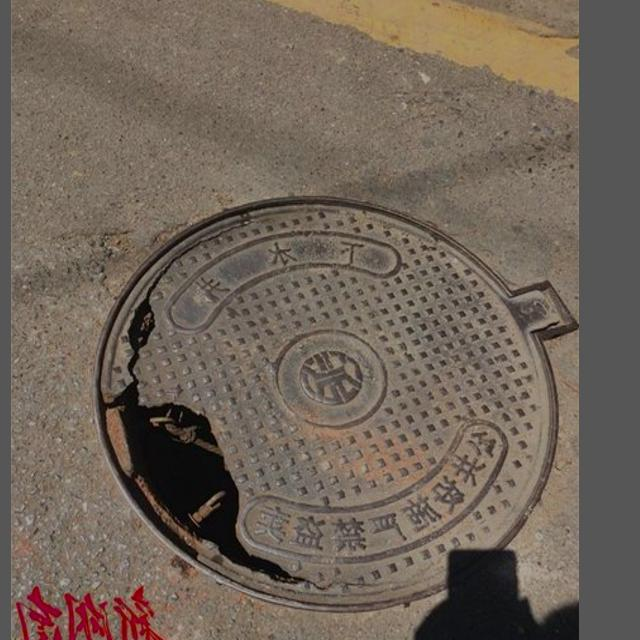broke: (94, 171, 569, 607)
